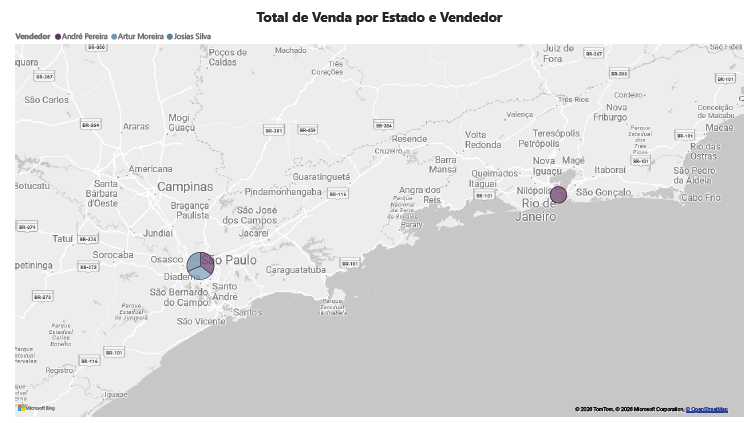

The page's visual inventory and layout, read from the dashboard file:
{"tool":"powerbi","page":{"name":"Performance dos Vendedores Por Região","canvas":[1280,720],"ordinal":4},"visuals":[{"type":"map","title":"Total de Venda por Estado e Vendedor","fields":{"Category":["DadosComerciais.Estado"],"Series":["DadosComerciais.Vendedor"],"Size":["Sum(DadosComerciais.Valor Venda)"]},"box":[0,0,1280,720],"z":0}]}

Visuals, with their boxes in screenshot pixels (x1, y1, x2, y2), scaled from the page's 1280x720 canvas onto the 752x423 screenshot:
"Total de Venda por Estado e Vendedor" map: {"left": 0, "top": 0, "right": 751, "bottom": 422}
